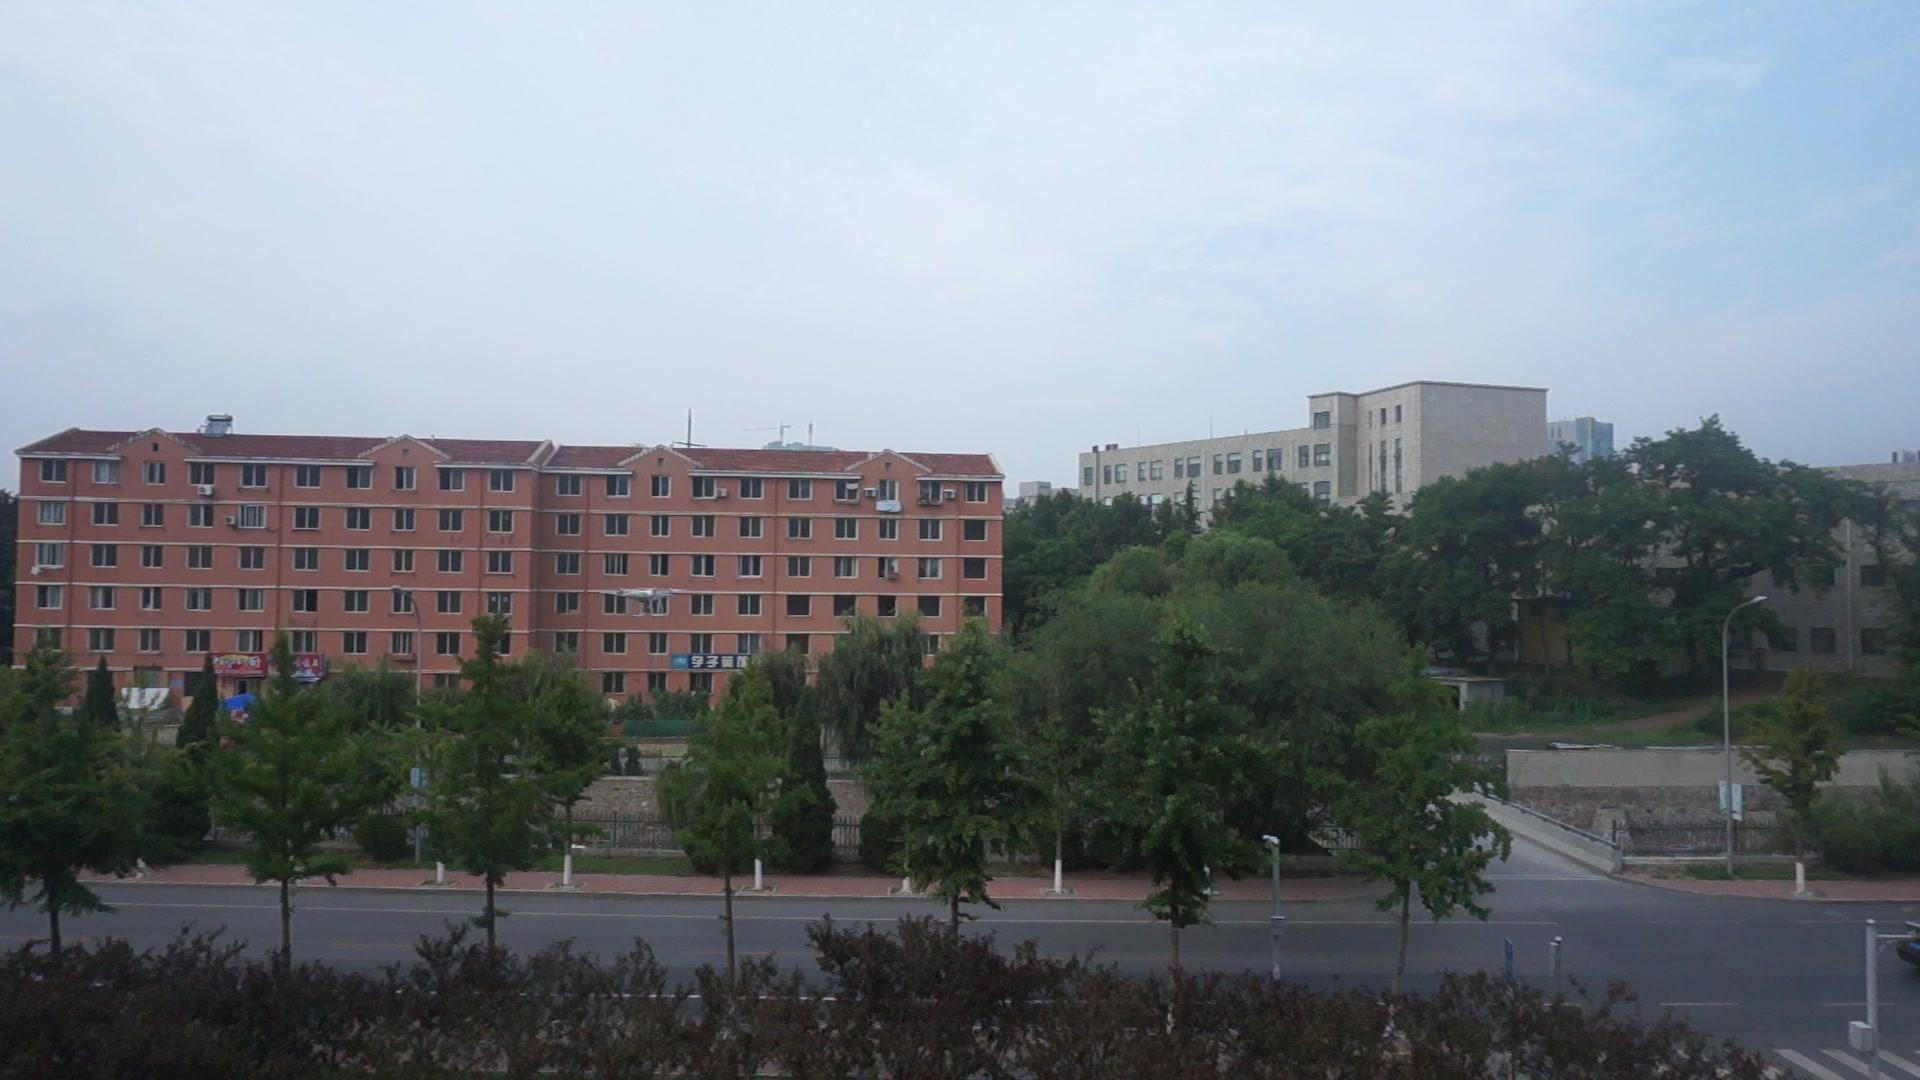UAV: (613, 587, 686, 618)
